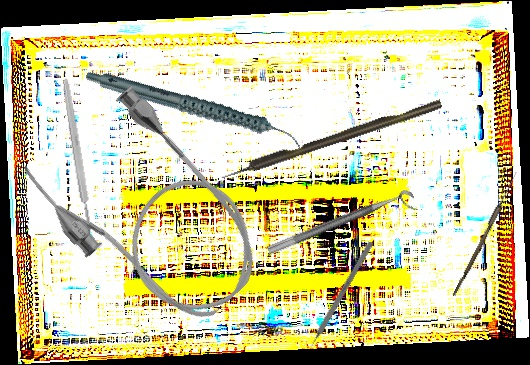Cannula: (12, 75, 285, 352)
Fixation Ring: (266, 187, 419, 268)
Handpiece: (84, 28, 305, 190)
Hook Surgical: (218, 98, 444, 182), (304, 241, 374, 355)
Scalpel Handle: (60, 77, 94, 230)
Surgical Spoon: (452, 170, 519, 298)
